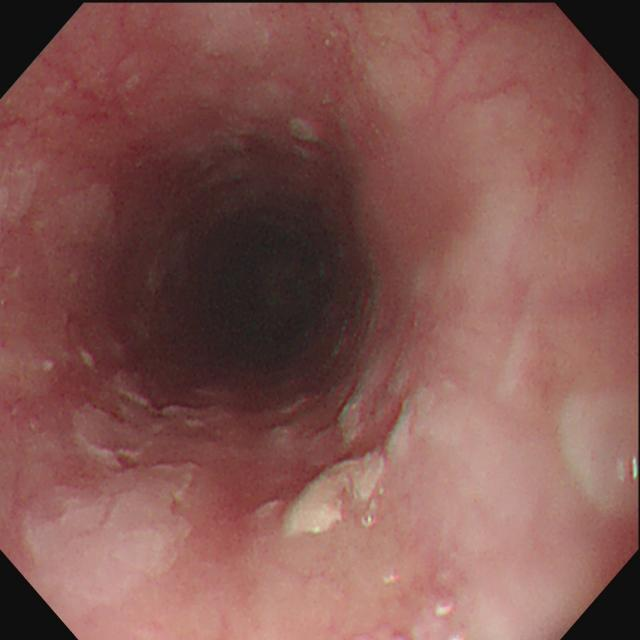E: (171, 205, 334, 383)
J: (23, 383, 208, 594), (265, 374, 418, 544)
